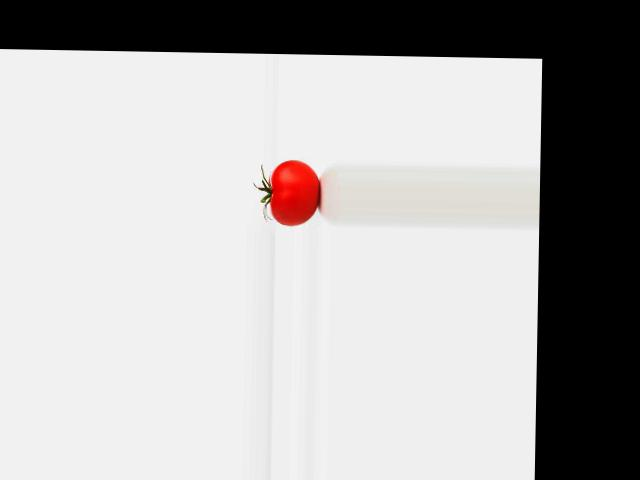tomato: (269, 159, 319, 225)
